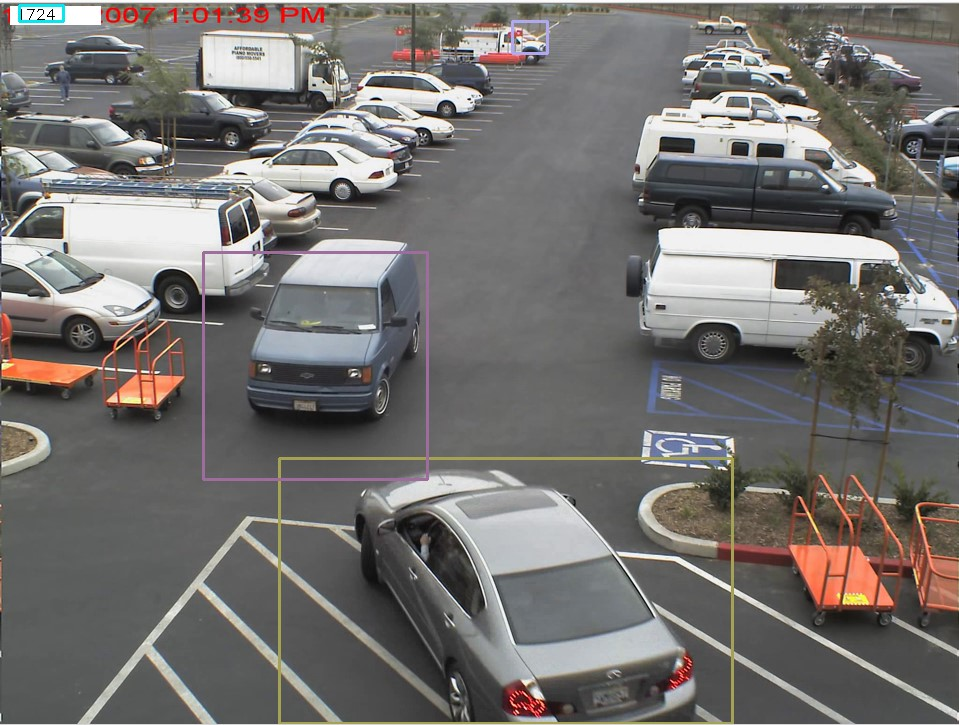empyt_space: (633, 395, 959, 516), (321, 198, 384, 234), (167, 141, 250, 164)
